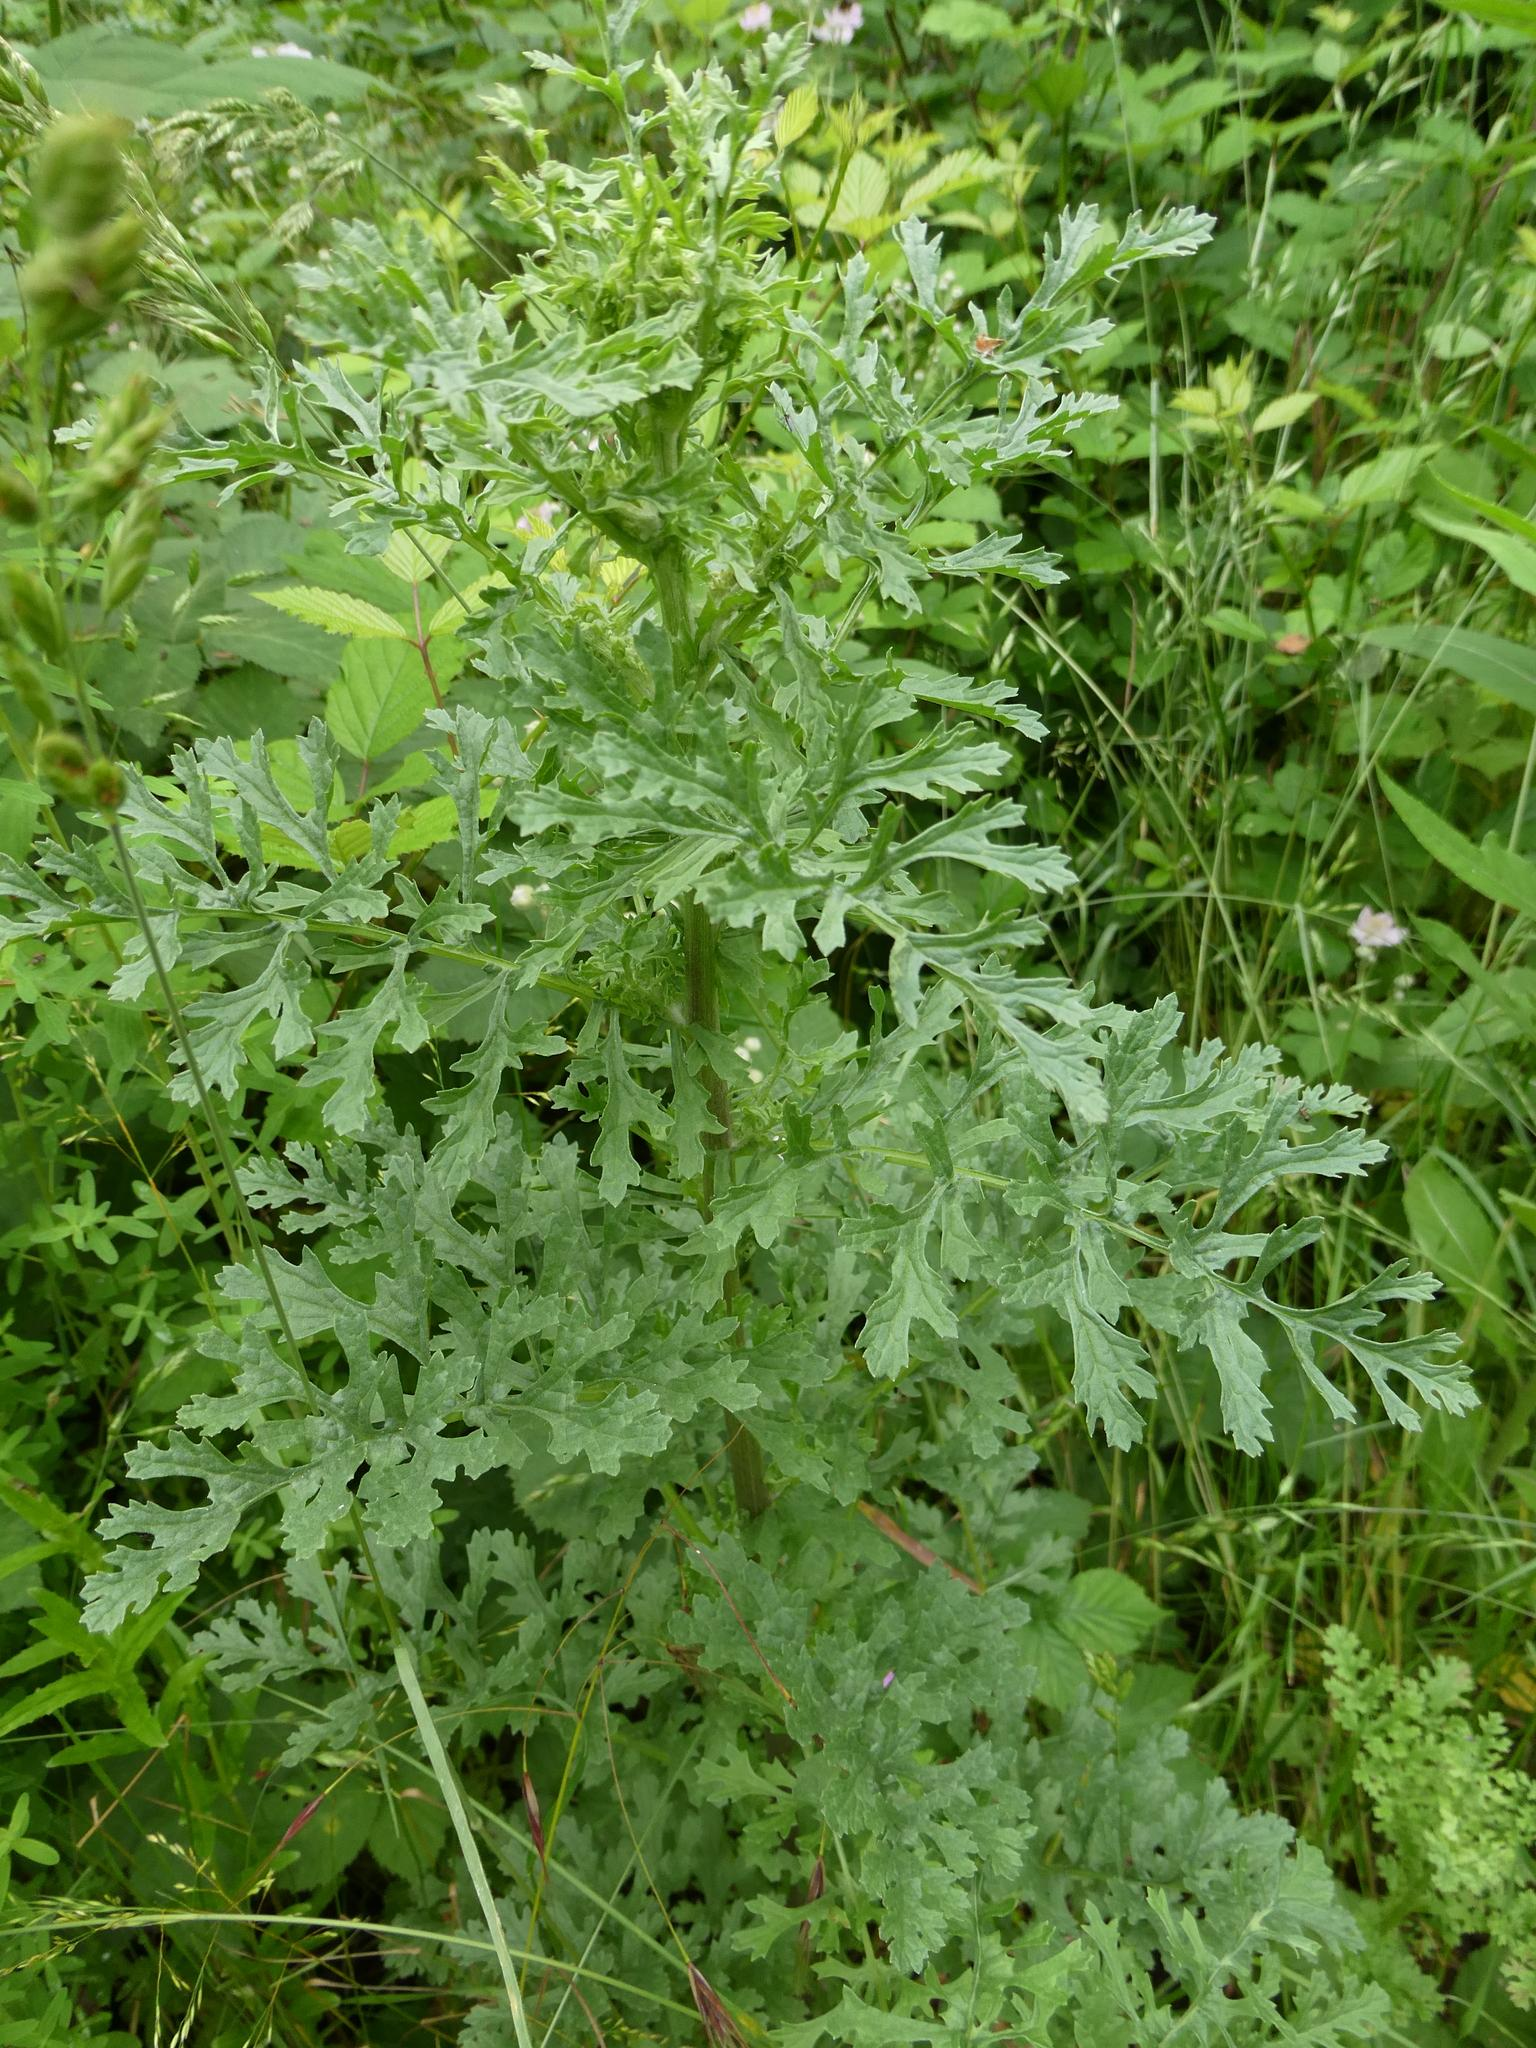Jacobaea vulgaris: (60, 69, 1513, 1717)
